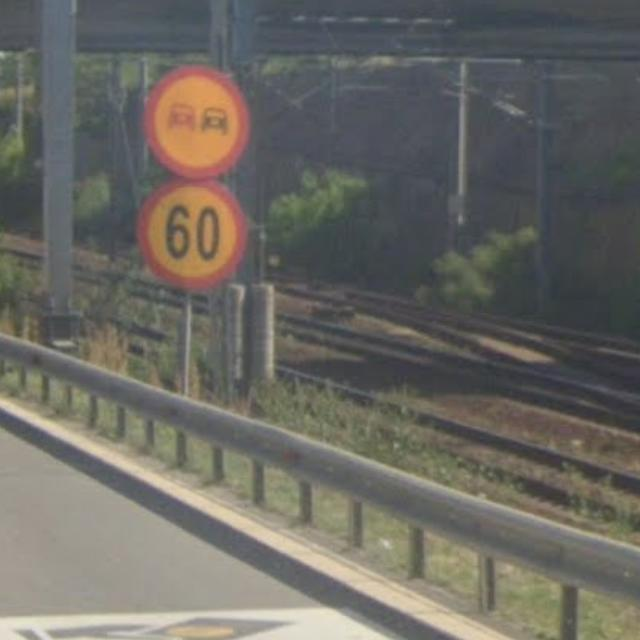forb_overtake: (142, 65, 250, 179)
forb_speed_over_60: (136, 177, 246, 289)
